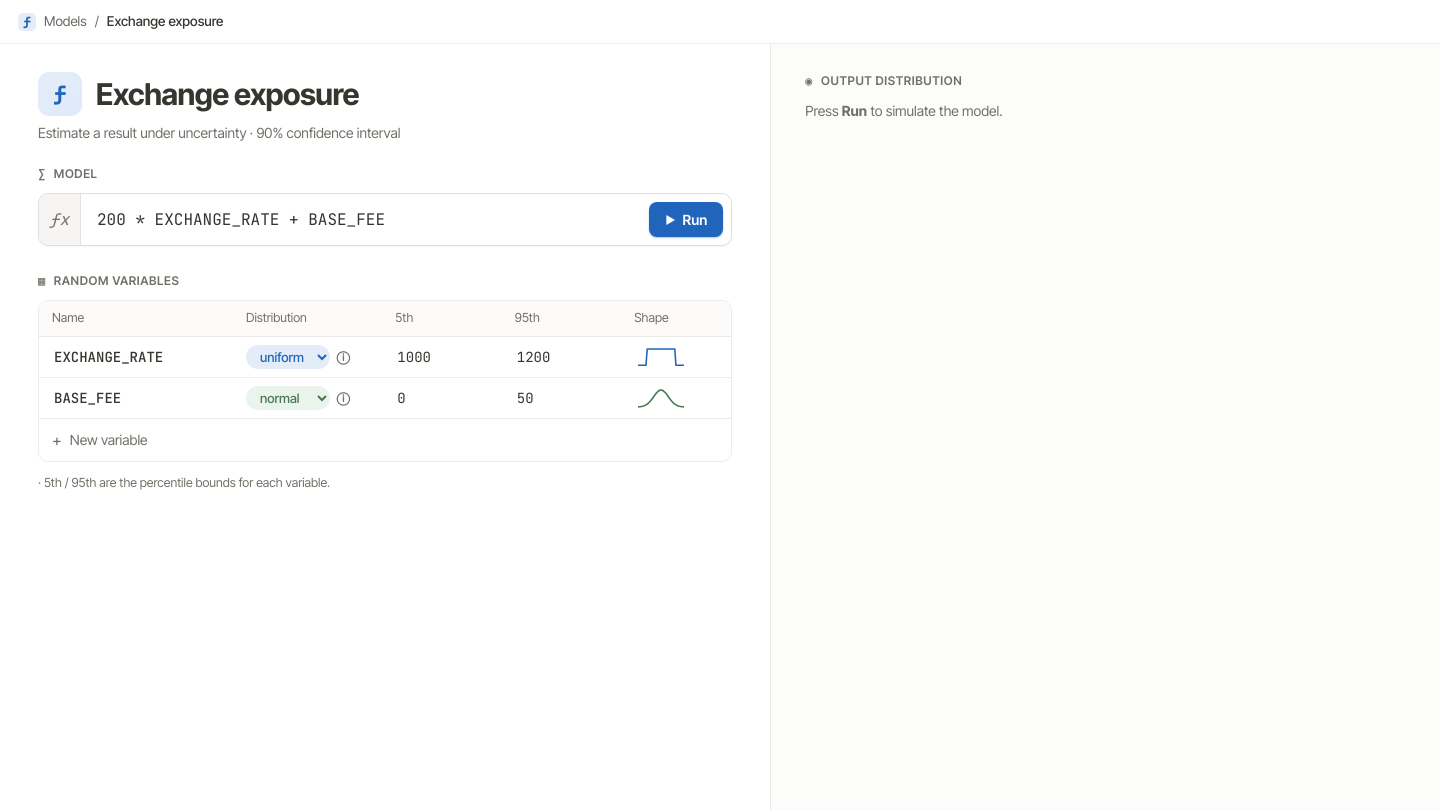
Test: §3 — error banner accessibility › error banner has role="alert" and shows the error message
Step 1. Click the button "▶ Run" → (686, 220), box 649,202 -> 723,237
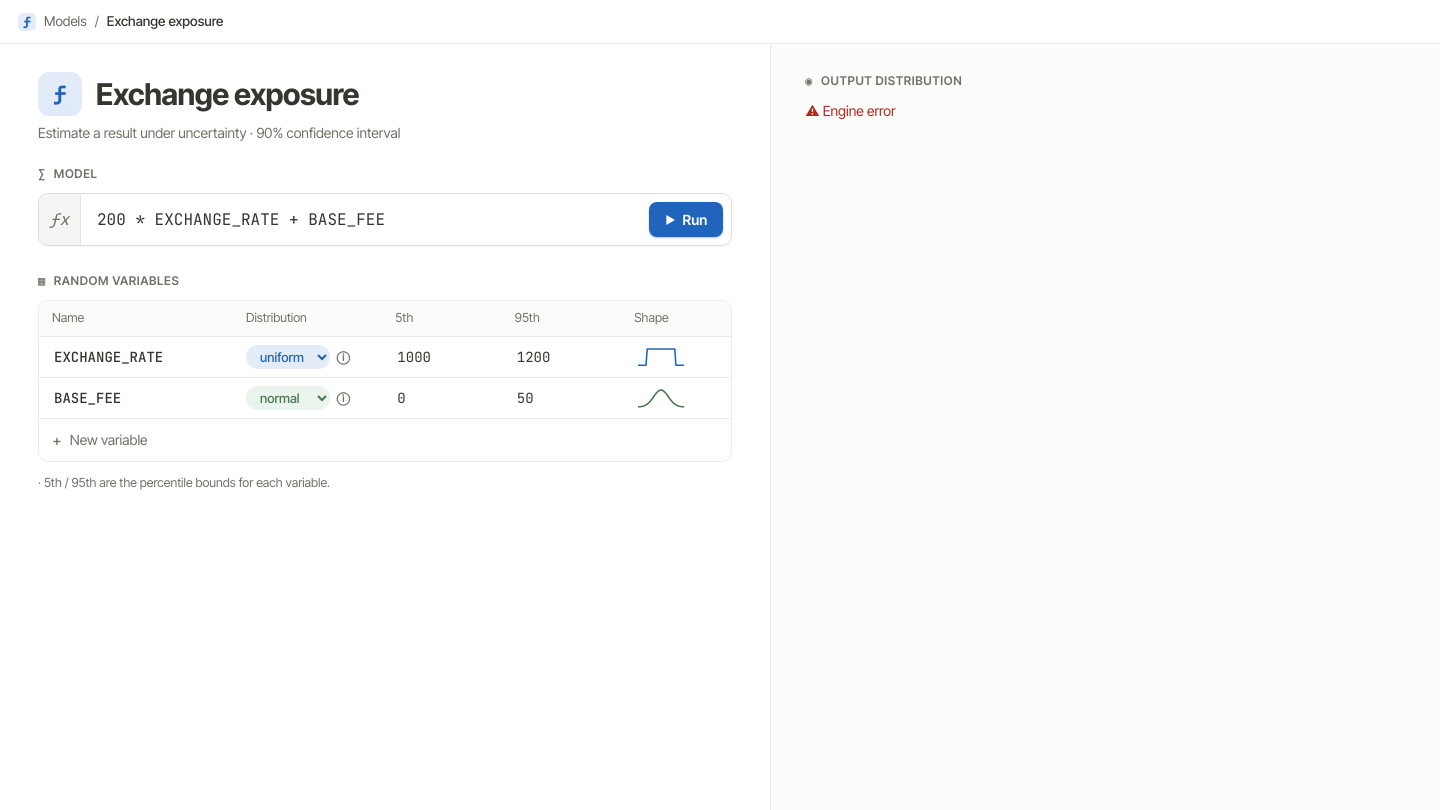
Check: the number of messages is 1, box 805,102 -> 896,119
Check: the message shows "Engine error", box 823,102 -> 896,119
